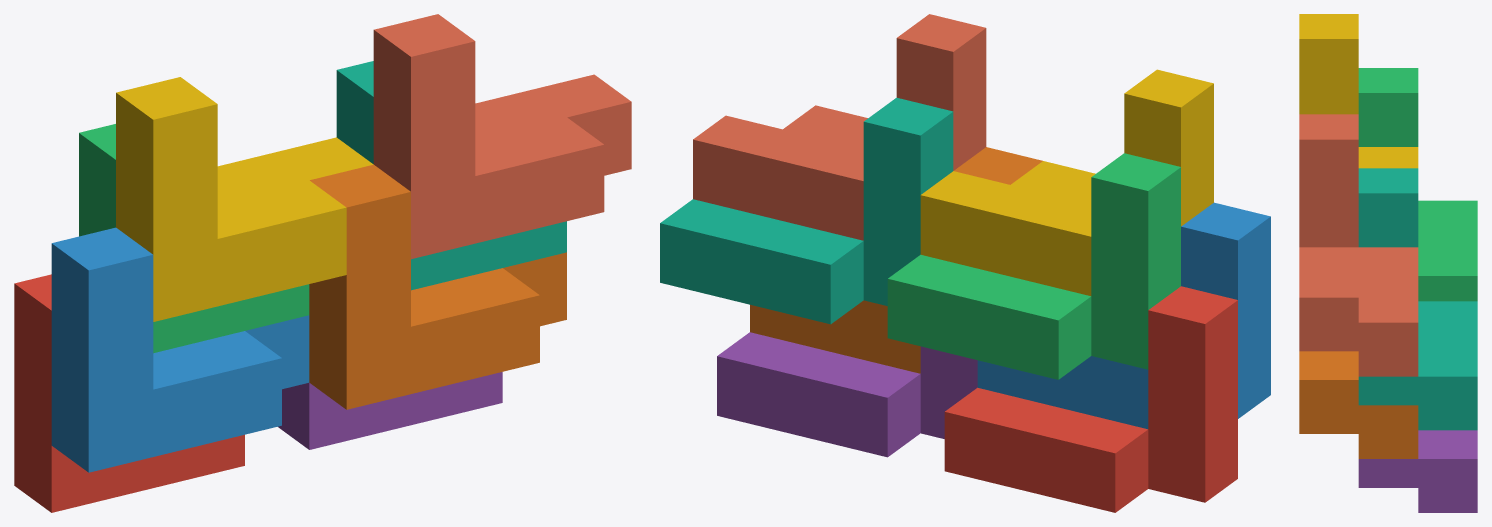
The model's file is tiling.obj.
3 views of the same model, side by side, from view 1: azimuth 30°, elevation 25°; view 2: azimuth 150°, elevation 25°; view 3: azimuth 270°, elevation 25° (orthographic). The views are drawn at different scales.
Visible parts, largest first — view 1: copy_1_domain_8, copy_1_domain_2, copy_1_domain_4, copy_1_domain_6, copy_1_domain_1, copy_1_domain_3, copy_1_domain_5, copy_1_domain_7; view 2: copy_1_domain_1, copy_1_domain_3, copy_1_domain_7, copy_1_domain_8, copy_1_domain_4, copy_1_domain_5, copy_1_domain_2, copy_1_domain_6; view 3: copy_1_domain_8, copy_1_domain_7, copy_1_domain_3, copy_1_domain_6, copy_1_domain_4, copy_1_domain_5.
Part boxes in pixels (bbox=[...]): copy_1_domain_8: bbox=[373, 14, 631, 259]; copy_1_domain_2: bbox=[51, 227, 309, 472]; copy_1_domain_4: bbox=[116, 77, 373, 321]; copy_1_domain_6: bbox=[309, 164, 566, 409]; copy_1_domain_1: bbox=[14, 274, 244, 512]; copy_1_domain_3: bbox=[79, 124, 309, 353]; copy_1_domain_5: bbox=[278, 372, 502, 449]; copy_1_domain_7: bbox=[336, 61, 566, 290]; copy_1_domain_1: bbox=[944, 286, 1237, 512]; copy_1_domain_3: bbox=[887, 153, 1180, 379]; copy_1_domain_7: bbox=[660, 97, 953, 324]; copy_1_domain_8: bbox=[693, 14, 986, 240]; copy_1_domain_4: bbox=[920, 69, 1213, 295]; copy_1_domain_5: bbox=[717, 332, 977, 457]; copy_1_domain_2: bbox=[977, 202, 1270, 429]; copy_1_domain_6: bbox=[750, 147, 1042, 373]; copy_1_domain_8: bbox=[1299, 114, 1418, 376]; copy_1_domain_7: bbox=[1358, 168, 1477, 430]; copy_1_domain_3: bbox=[1358, 68, 1477, 301]; copy_1_domain_6: bbox=[1299, 351, 1418, 458]; copy_1_domain_4: bbox=[1299, 14, 1418, 168]; copy_1_domain_5: bbox=[1358, 430, 1477, 512].
Size of the model in its own units: 9 by 6 by 3.
